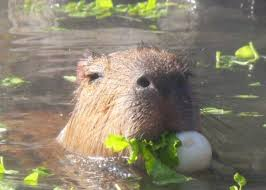capivara: (56, 44, 201, 160)
